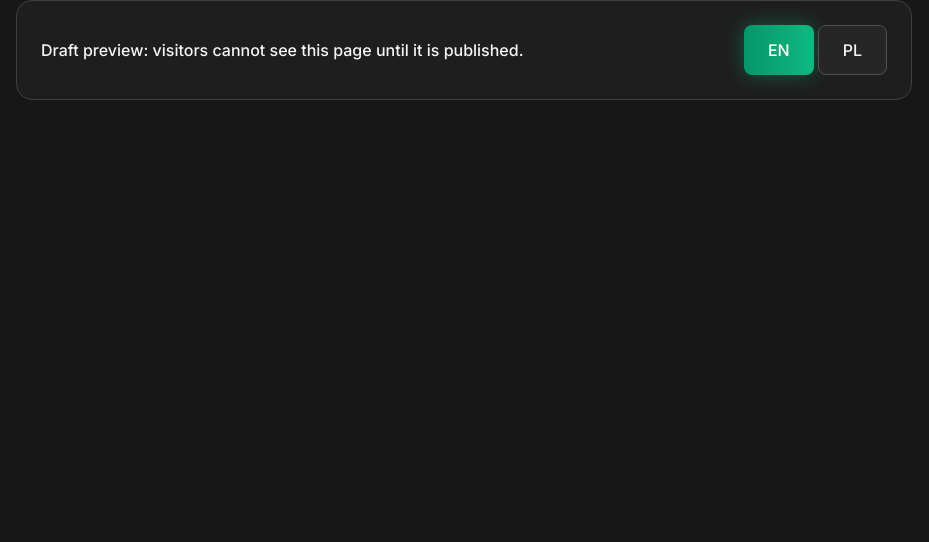
Test case: AdminPostPreview › translates the page labels into the previewed language, not the admin UI language
Click the button "PL".
click(852, 50)  # box x1=818 y1=25 x2=887 y2=75
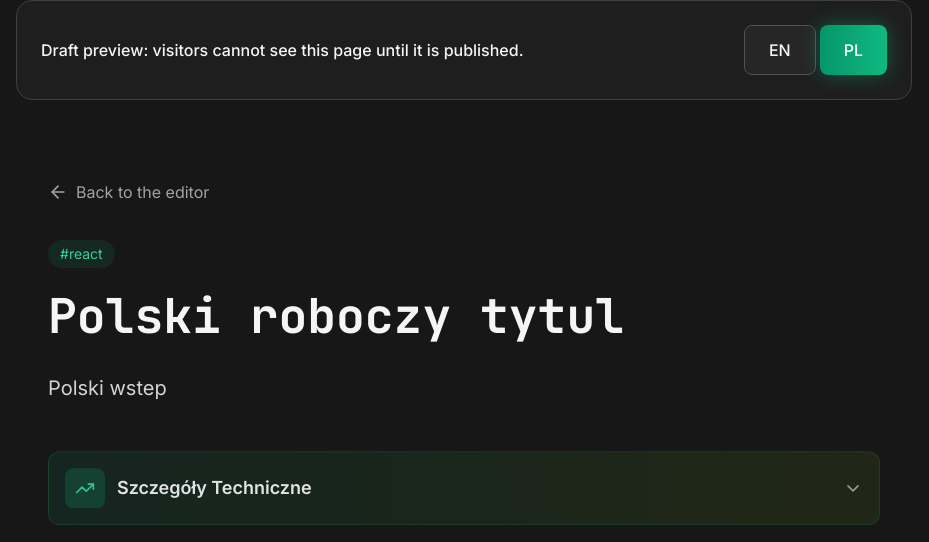
Now the button "Szczegóły Techniczne" is shown, box x1=48 y1=451 x2=880 y2=525
